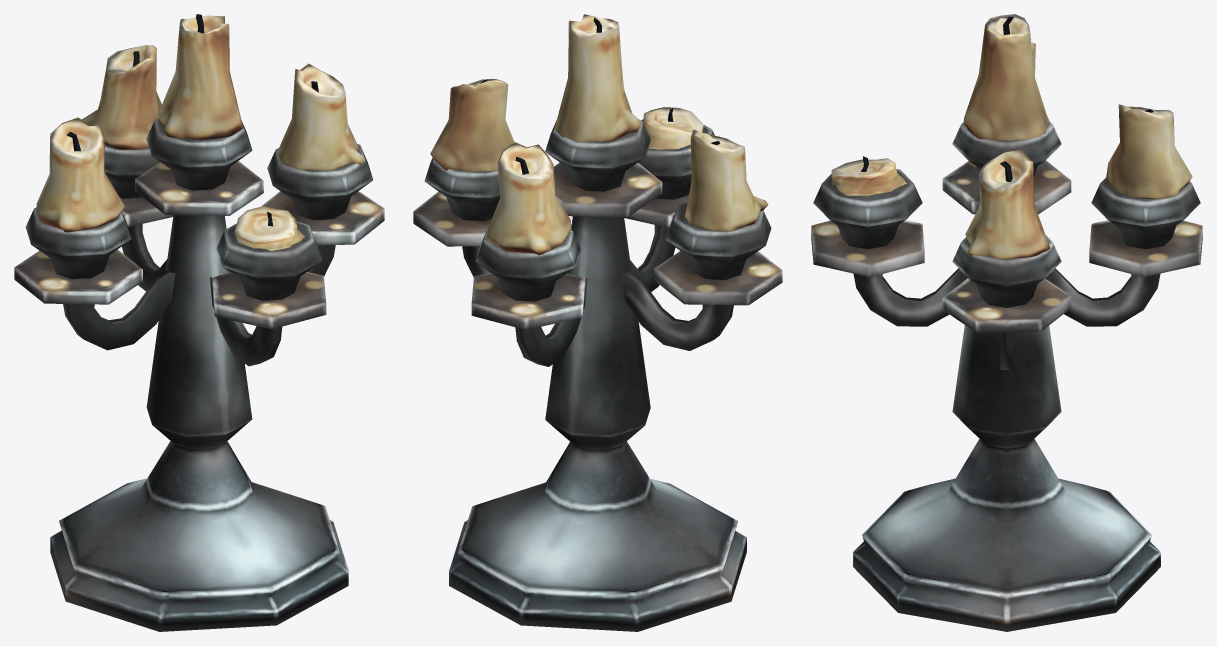
Rendered from SM_candlestick_01.gltf.
3 renders of one model, left to right at view 1: azimuth 30°, elevation 25°; view 2: azimuth 150°, elevation 25°; view 3: azimuth 270°, elevation 25°, orthographic.
Visible parts, largest first — view 1: SM_candlestick_01; view 2: SM_candlestick_01; view 3: SM_candlestick_01.
Part boxes in pixels (x1,y1,x2,y2): SM_candlestick_01: (14,14,384,631); SM_candlestick_01: (413,14,782,631); SM_candlestick_01: (811,14,1202,631).
Bounding box in the file's own units: 0.4133 × 0.6415 × 0.4133.
1 material, 1 textured.
